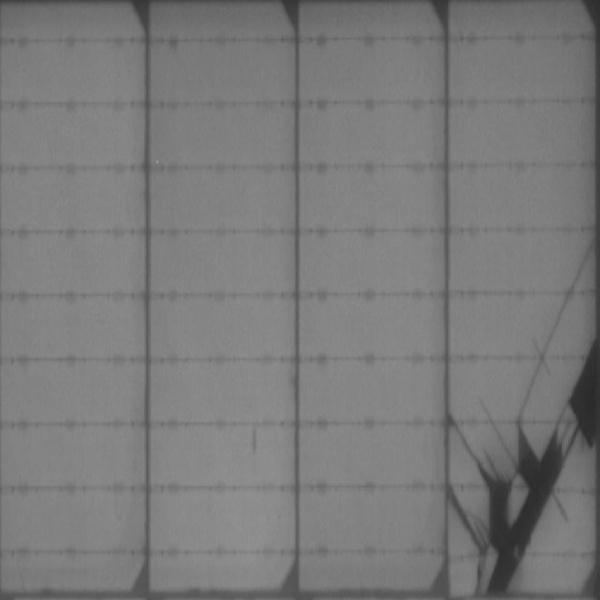broken: (456, 244, 600, 595)
